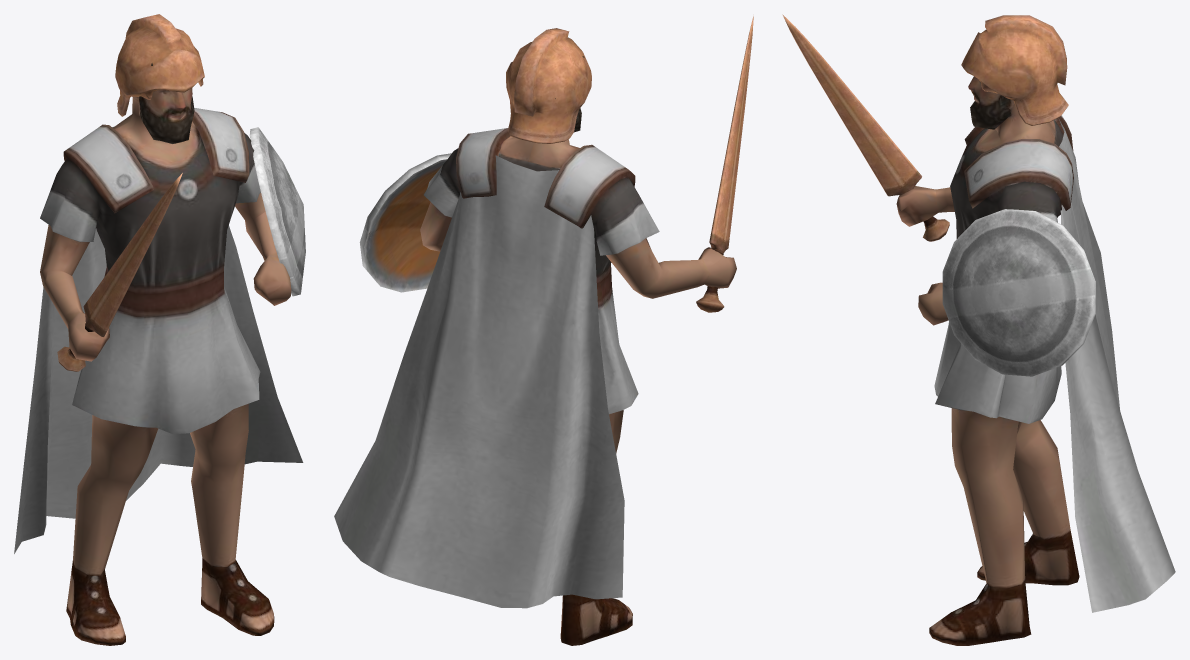
File: 4-hypaspist.glb
3 renders of one model, left to right at view 1: azimuth 30°, elevation 25°; view 2: azimuth 150°, elevation 25°; view 3: azimuth 270°, elevation 25°, orthographic. The views are drawn at different scales.
Bounding box in the file's own units: 1.2 × 2.11 × 1.28.
4 materials, 4 textured.
